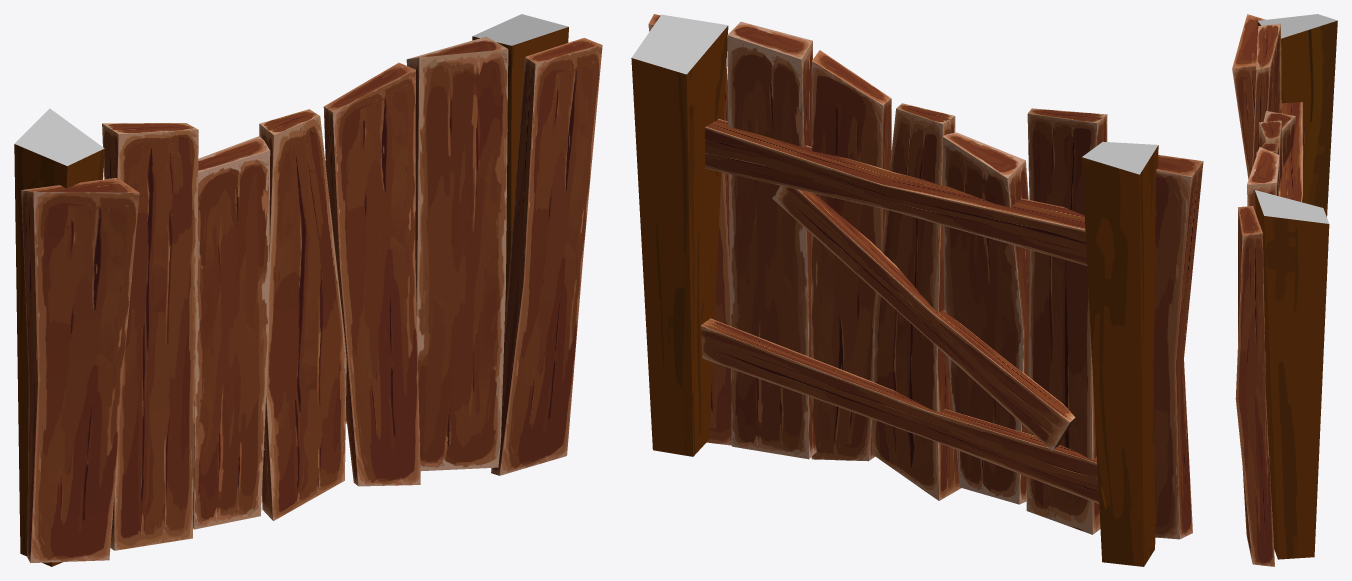
Rendered from SM_PROP_fence_v01_03.fbx.
3 renders of one model, left to right at view 1: azimuth 30°, elevation 25°; view 2: azimuth 150°, elevation 25°; view 3: azimuth 270°, elevation 25°, orthographic. The views are drawn at different scales.
Visible parts, largest first — view 1: SM_PROP_fence_v01_03; view 2: SM_PROP_fence_v01_03; view 3: SM_PROP_fence_v01_03.
Part boxes in pixels (x1=…): SM_PROP_fence_v01_03: x1=14, y1=14, x2=602, y2=566; SM_PROP_fence_v01_03: x1=631, y1=14, x2=1203, y2=566; SM_PROP_fence_v01_03: x1=1232, y1=14, x2=1337, y2=566.
Size of the model in its own units: 280 by 205 by 54.28.
